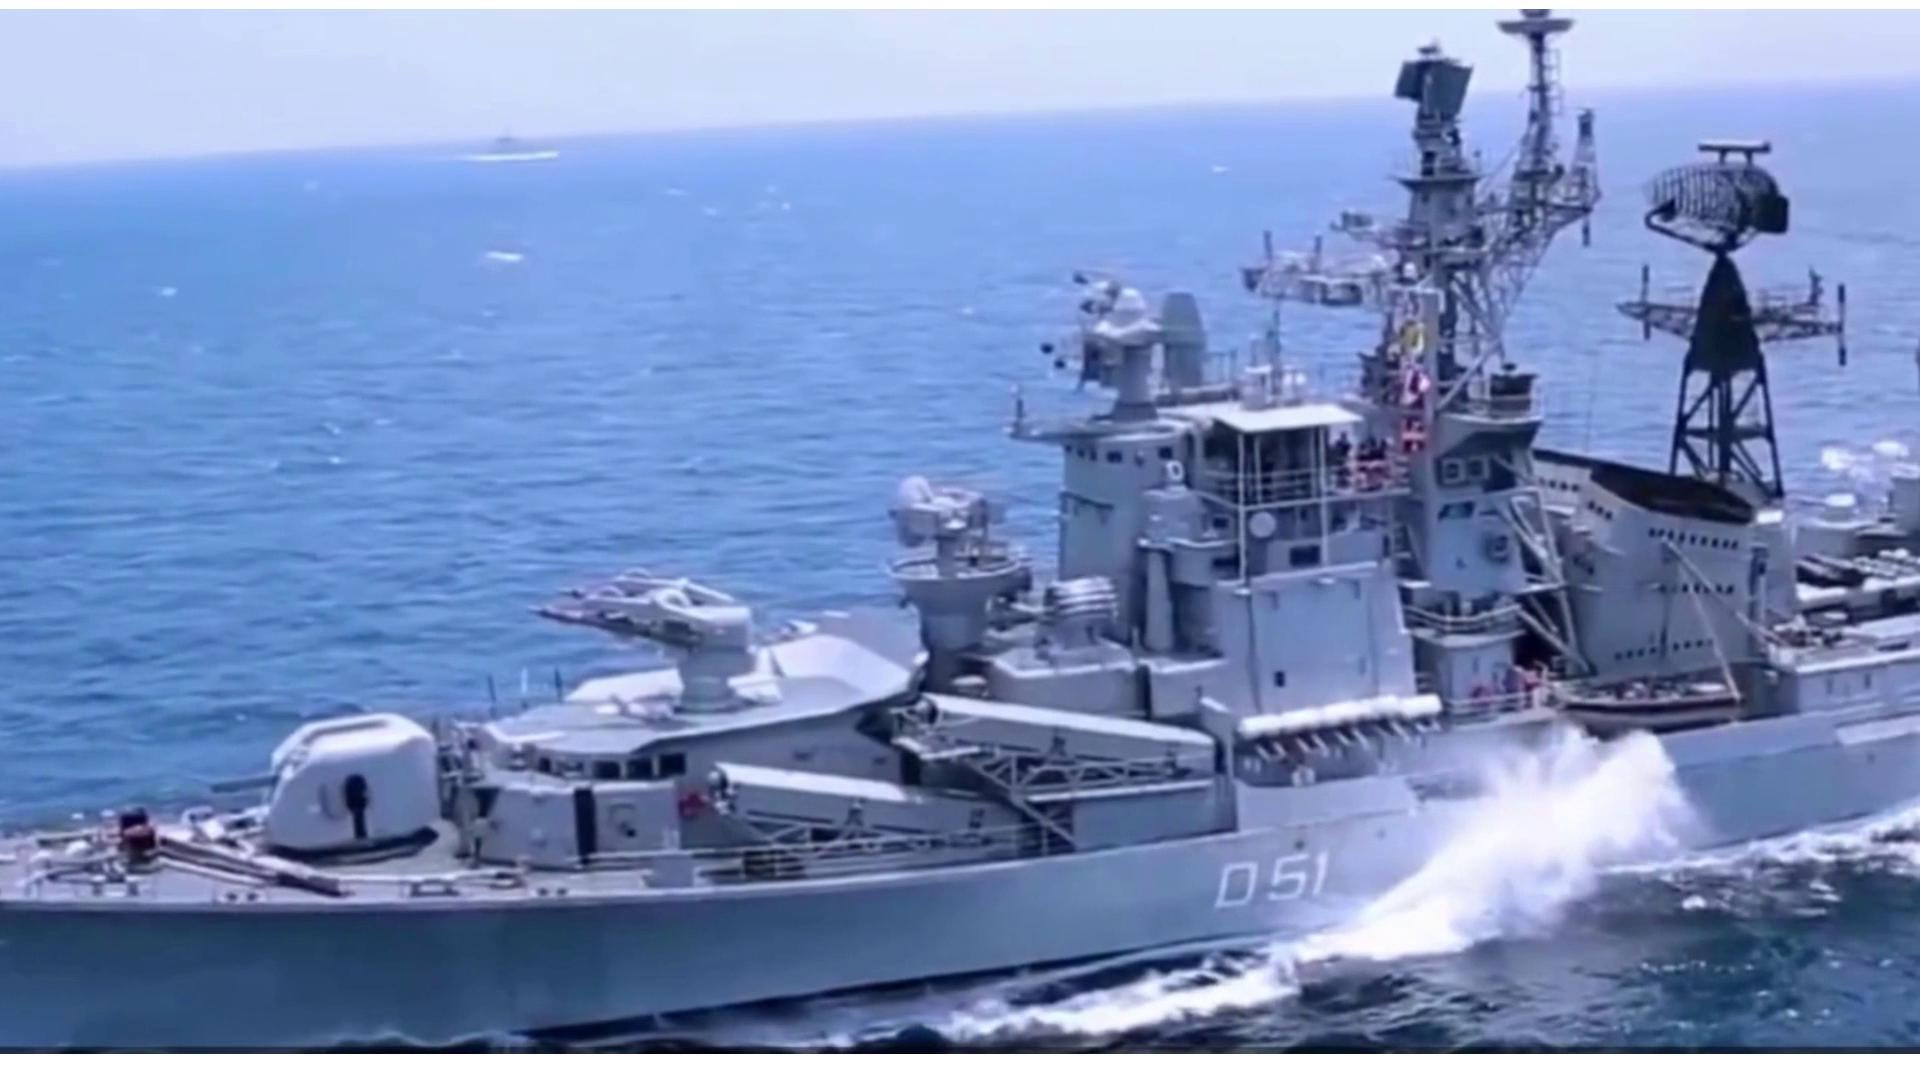OCR: (1200, 840, 1338, 924)
